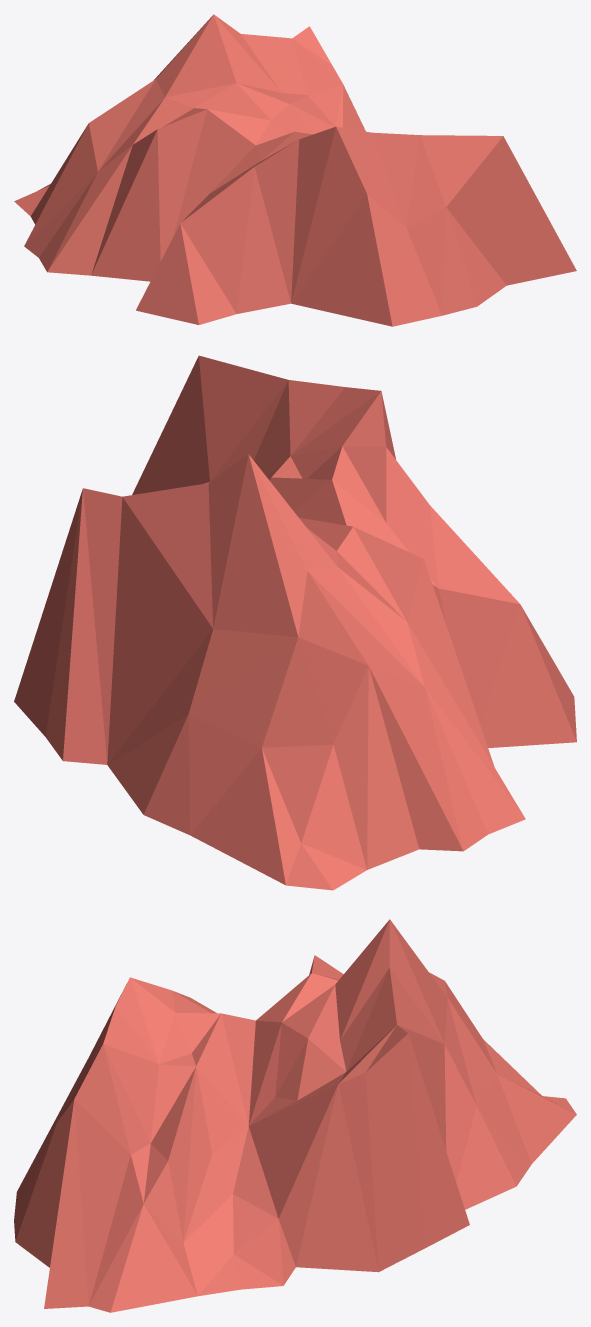
The model's file is Montain_4.glb.
3 views of the same model, one above another, from view 1: azimuth 30°, elevation 25°; view 2: azimuth 150°, elevation 25°; view 3: azimuth 270°, elevation 25° (orthographic). The views are drawn at different scales.
Visible parts, largest first — view 1: Montain_4; view 2: Montain_4; view 3: Montain_4.
Boxes of the visible parts, bbox=[...] form: Montain_4: bbox=[14, 14, 576, 326]; Montain_4: bbox=[14, 355, 576, 890]; Montain_4: bbox=[14, 919, 576, 1312].
Size of the model in its own units: 3366 by 1654 by 3293.
